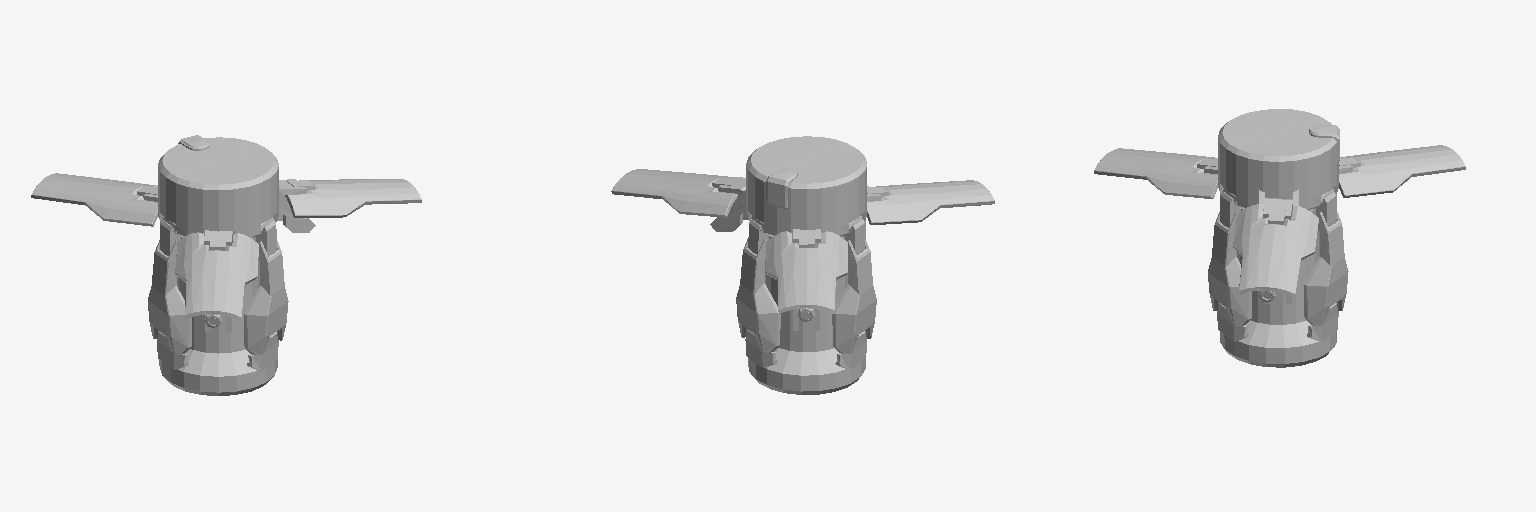
File: soldier76_heal.obj
3 views of the same model, side by side, from view 1: azimuth 30°, elevation 25°; view 2: azimuth 150°, elevation 25°; view 3: azimuth 270°, elevation 25° (orthographic).
Parts seen in each view (by area): view 1: Submesh_3.1.AE880ED8AB3980EB; view 2: Submesh_3.1.AE880ED8AB3980EB; view 3: Submesh_3.1.AE880ED8AB3980EB.
Boxes of the visible parts, <box> form: Submesh_3.1.AE880ED8AB3980EB: <box>31,135,421,395</box>; Submesh_3.1.AE880ED8AB3980EB: <box>611,136,994,394</box>; Submesh_3.1.AE880ED8AB3980EB: <box>1094,109,1465,367</box>.
Size of the model in its own units: 0.3351 by 0.2333 by 0.3622.